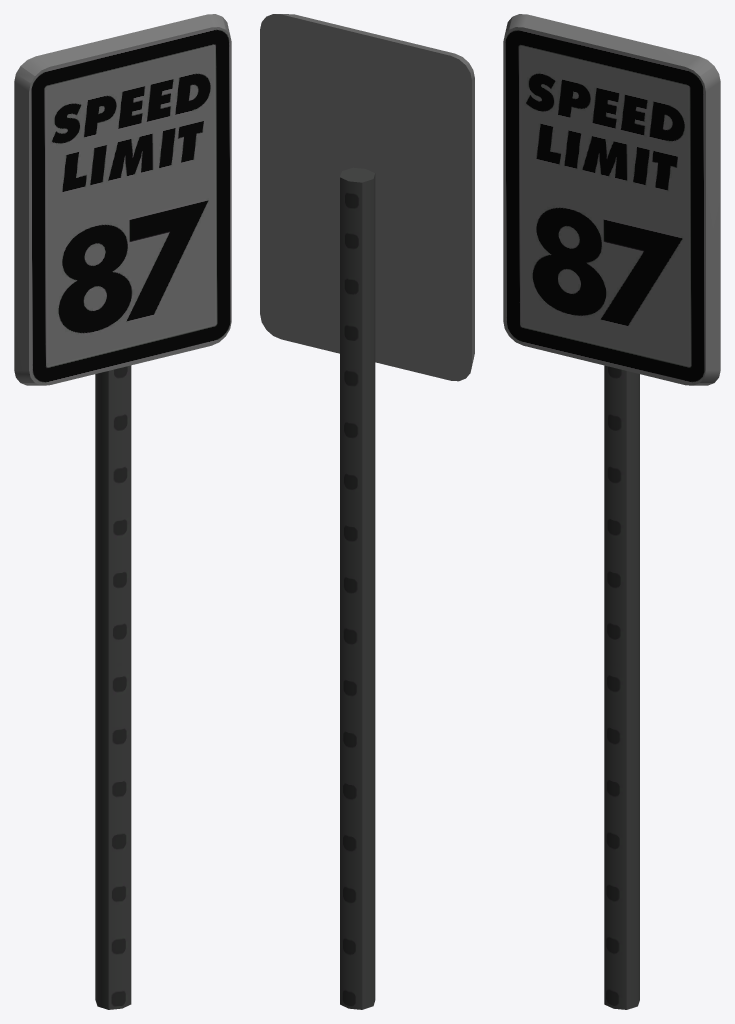
The model's file is sign speeding.glb.
The picture shows the model from 3 angles, left to right: view 1: azimuth 30°, elevation 25°; view 2: azimuth 150°, elevation 25°; view 3: azimuth 330°, elevation 25°; orthographic projection.
Visible parts, largest first — view 1: Sign_SpeedLimit_LOD0; view 2: Sign_SpeedLimit_LOD0; view 3: Sign_SpeedLimit_LOD0.
Part boxes in pixels (box(x1,y1,x2,y2)): Sign_SpeedLimit_LOD0: box(14, 14, 231, 1009); Sign_SpeedLimit_LOD0: box(260, 14, 474, 1009); Sign_SpeedLimit_LOD0: box(503, 14, 720, 1009).
Size of the model in its own units: 0.8505 by 3.68 by 0.1776.
Materials: 1 (1 with a texture image).
